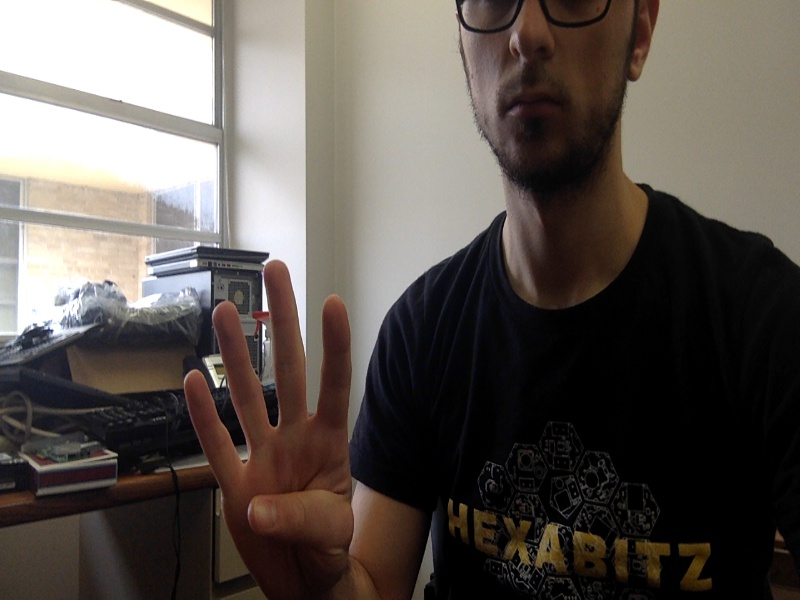4-hand: (183, 261, 353, 591)
